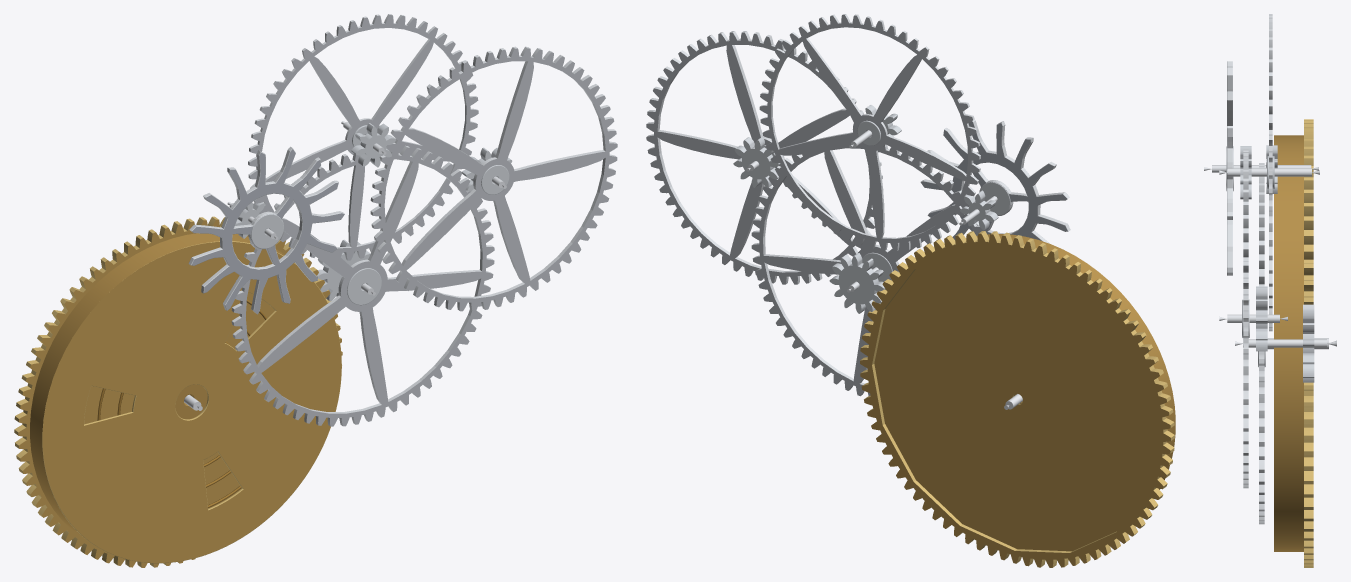
Rendered from going-train-core.glb.
3 renders of one model, left to right at view 1: azimuth 30°, elevation 25°; view 2: azimuth 150°, elevation 25°; view 3: azimuth 270°, elevation 25°, orthographic. The views are drawn at different scales.
Parts seen in each view (by area): view 1: barrel_cover, third_wheel, center_wheel, fourth_wheel, escape_wheel, barrel_wheel, barrel_drum, barrel_floor, fourth_pinion, center_hub, center_pinion, escape_hub (+1 smaller); view 2: barrel_floor, barrel_wheel, fourth_wheel, third_wheel, center_wheel, escape_wheel, barrel_drum, center_pinion, third_pinion, escape_pinion; view 3: barrel_drum, barrel_wheel, third_wheel, center_wheel, escape_wheel, fourth_wheel, center_pinion, third_pinion, fourth_arbor_shaft, center_arbor_shaft, fourth_pinion, escape_arbor_shaft (+2 smaller).
Part boxes in pixels (x1,y1,x2,y2): barrel_cover: [42, 241, 341, 563]; third_wheel: [370, 46, 617, 311]; center_wheel: [231, 145, 494, 426]; fourth_wheel: [248, 14, 478, 260]; escape_wheel: [188, 146, 344, 314]; barrel_wheel: [14, 216, 342, 567]; barrel_drum: [30, 233, 284, 541]; barrel_floor: [67, 292, 274, 530]; fourth_pinion: [351, 123, 395, 167]; center_hub: [347, 268, 381, 305]; center_pinion: [317, 239, 370, 301]; escape_hub: [251, 214, 283, 248]; barrel_floor: [874, 248, 1158, 551]; barrel_wheel: [860, 231, 1174, 567]; fourth_wheel: [759, 14, 980, 251]; third_wheel: [646, 31, 883, 284]; center_wheel: [751, 143, 984, 396]; escape_wheel: [920, 119, 1070, 243]; barrel_drum: [976, 234, 1175, 489]; center_pinion: [829, 253, 884, 313]; third_pinion: [733, 137, 780, 187]; escape_pinion: [960, 190, 998, 230]; barrel_drum: [1274, 135, 1303, 551]; barrel_wheel: [1304, 119, 1313, 567]; third_wheel: [1243, 149, 1248, 488]; center_wheel: [1259, 163, 1264, 524]; escape_wheel: [1227, 61, 1232, 275]; fourth_wheel: [1269, 14, 1272, 331]; center_pinion: [1303, 304, 1314, 382]; third_pinion: [1256, 286, 1267, 351]; fourth_arbor_shaft: [1227, 168, 1311, 176]; center_arbor_shaft: [1243, 339, 1326, 347]; fourth_pinion: [1240, 146, 1251, 199]; escape_arbor_shaft: [1212, 165, 1311, 172].
Bounding box in the file's own units: 0.021 × 0.018 × 0.00351.
